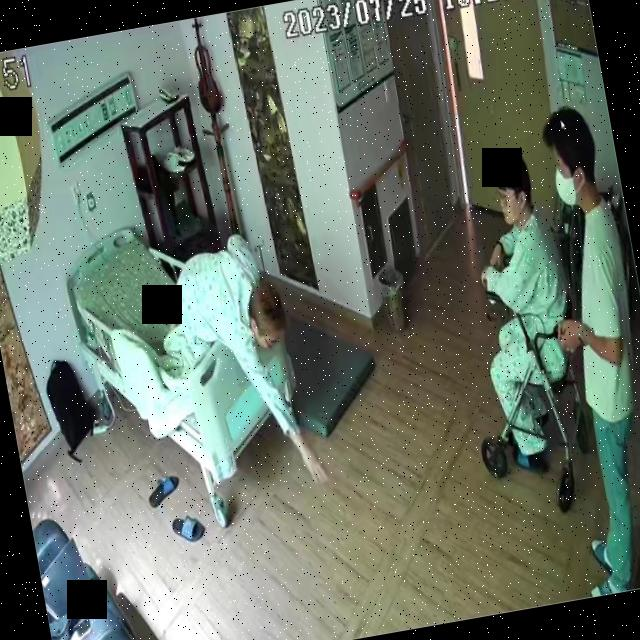danger: (160, 223, 332, 514)
patient: (160, 224, 332, 516)
